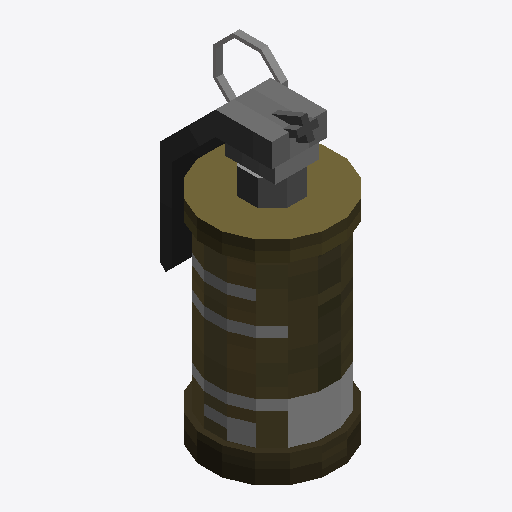
Isometric view (azimuth 45°, elevation 35.3°) of a Minecraft model made of 46 cuboids, textured from the same repository.
Parts seen in each view (by area): hexadecagon (×22), octagon (×8).
Boxes of the visible parts, x1,y1,x2,y2 form: hexadecagon (×22): [184, 144, 360, 484]; octagon (×8): [160, 78, 326, 267].
Bounding box in the file's own units: 3.3 × 7.69 × 4.16.